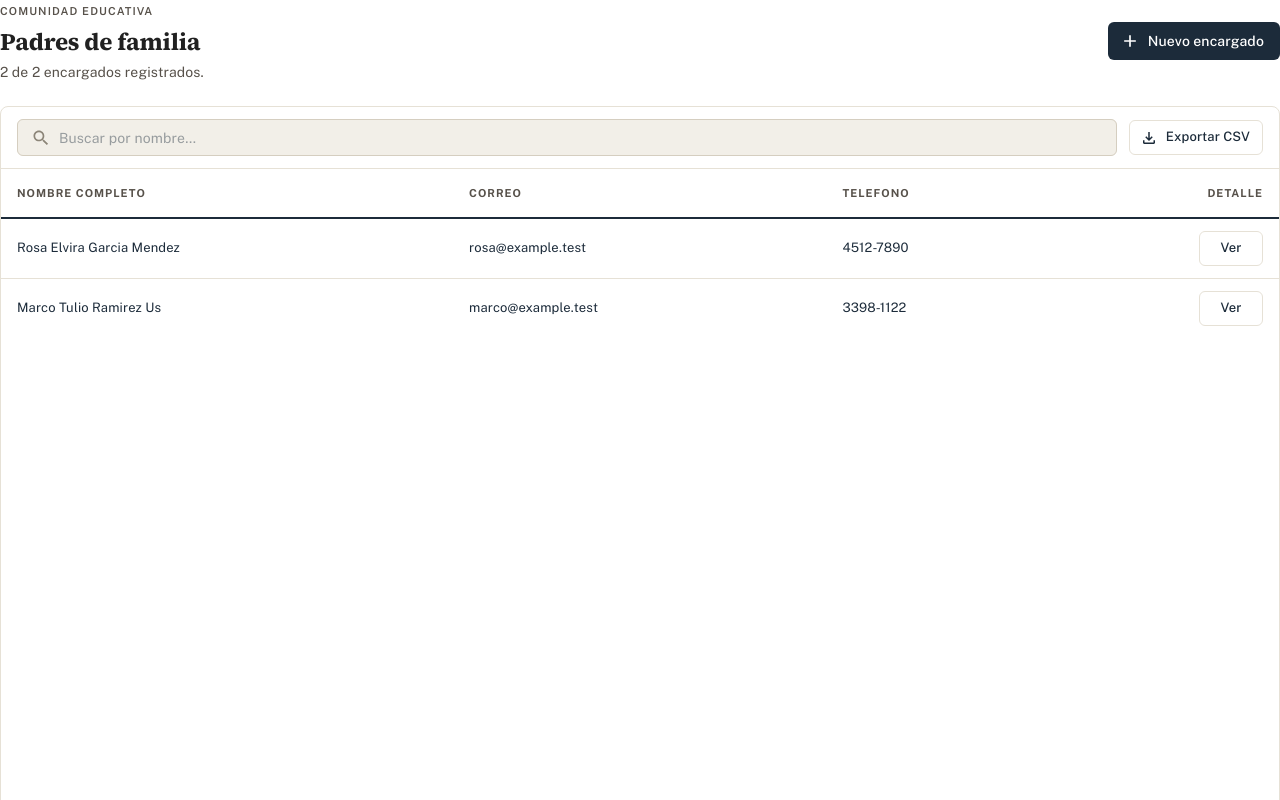
GuardiansPage › opens the detail panel for a row
Expected: the text "Rosa Elvira Garcia Mendez" is shown, [1,219,453,279]
Click the button with aria-label "Ver detalle": [1231, 249] box [1199,231,1263,266]
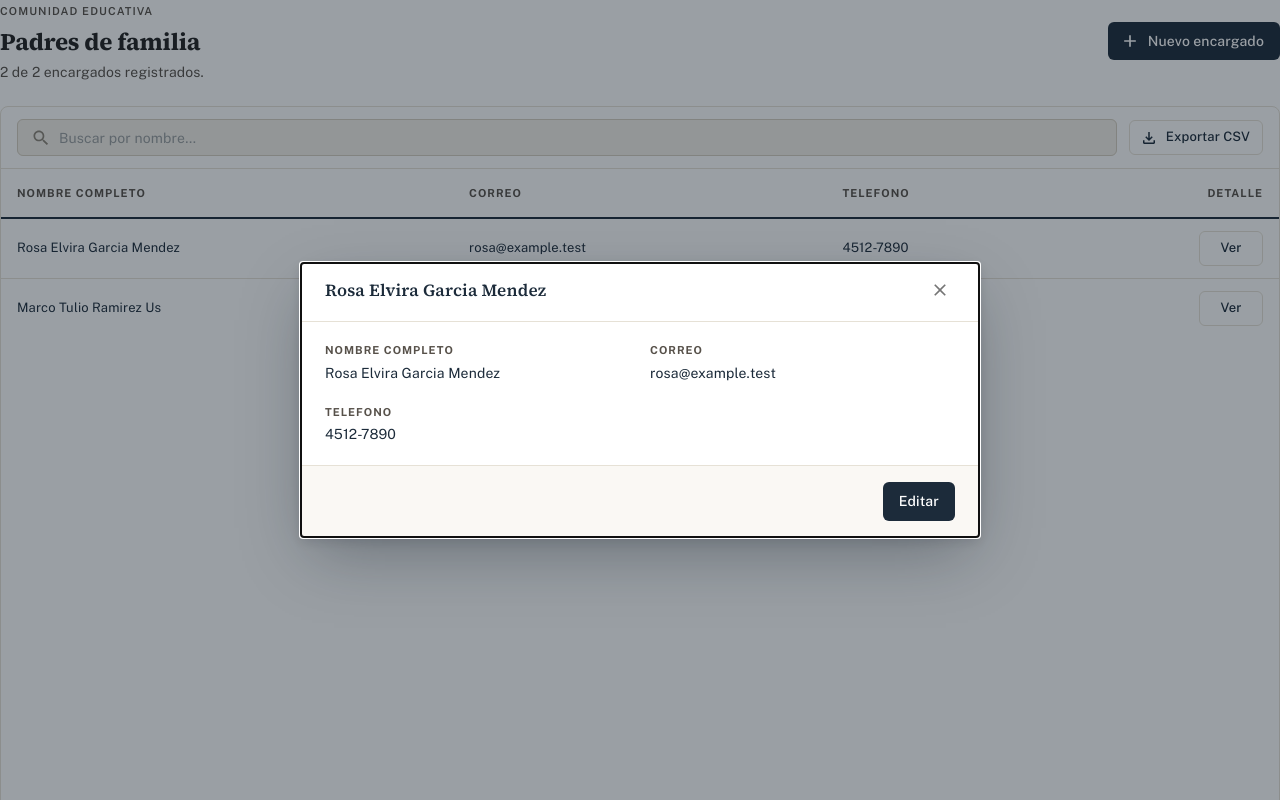
Expected: the heading "Rosa Elvira Garcia Mendez" is shown, [325,279,546,302]
Expected: the text "rosa@example.test" is shown, [650,365,776,381]
